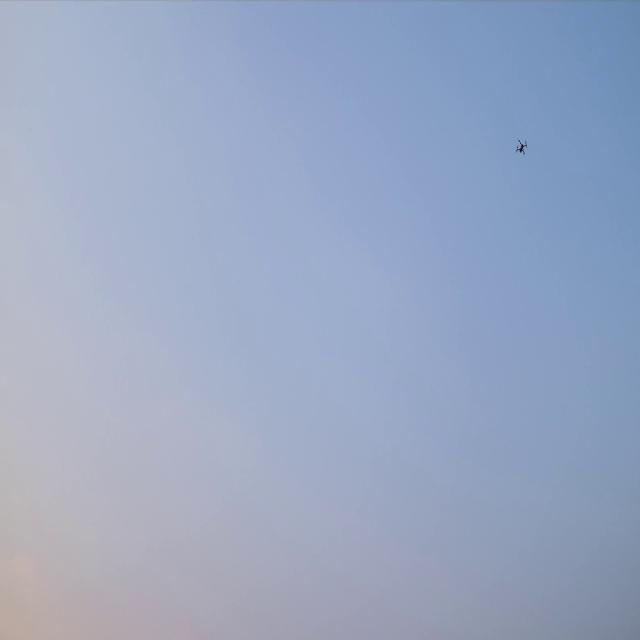UAV: (514, 136, 528, 156)
